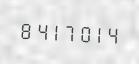eight: (17, 17, 31, 41)
four: (32, 18, 46, 42), (107, 22, 121, 46)
one: (47, 18, 61, 43), (92, 21, 106, 45)
seven: (62, 19, 76, 44)
zero: (77, 20, 91, 45)
